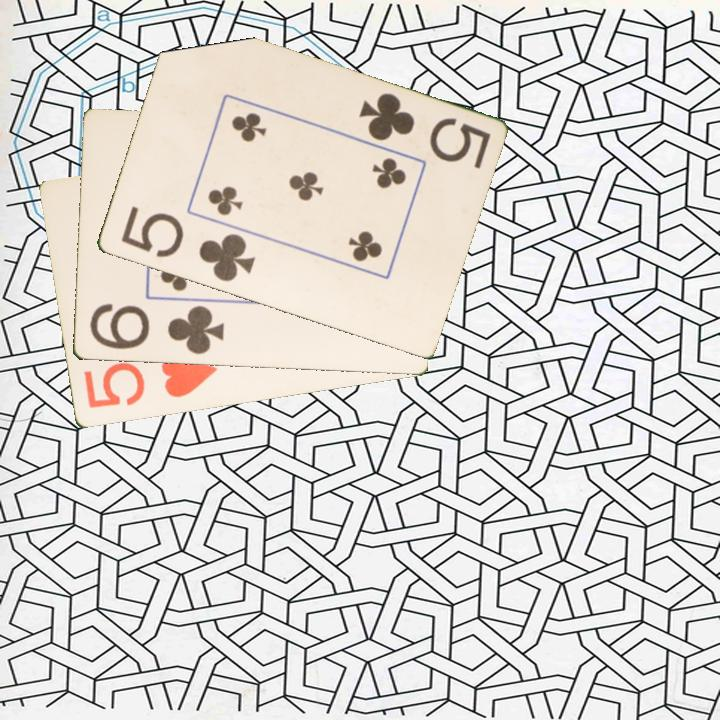5c: (117, 203, 258, 285), (355, 89, 493, 172)
5h: (79, 351, 220, 412)
6c: (86, 300, 227, 358)
